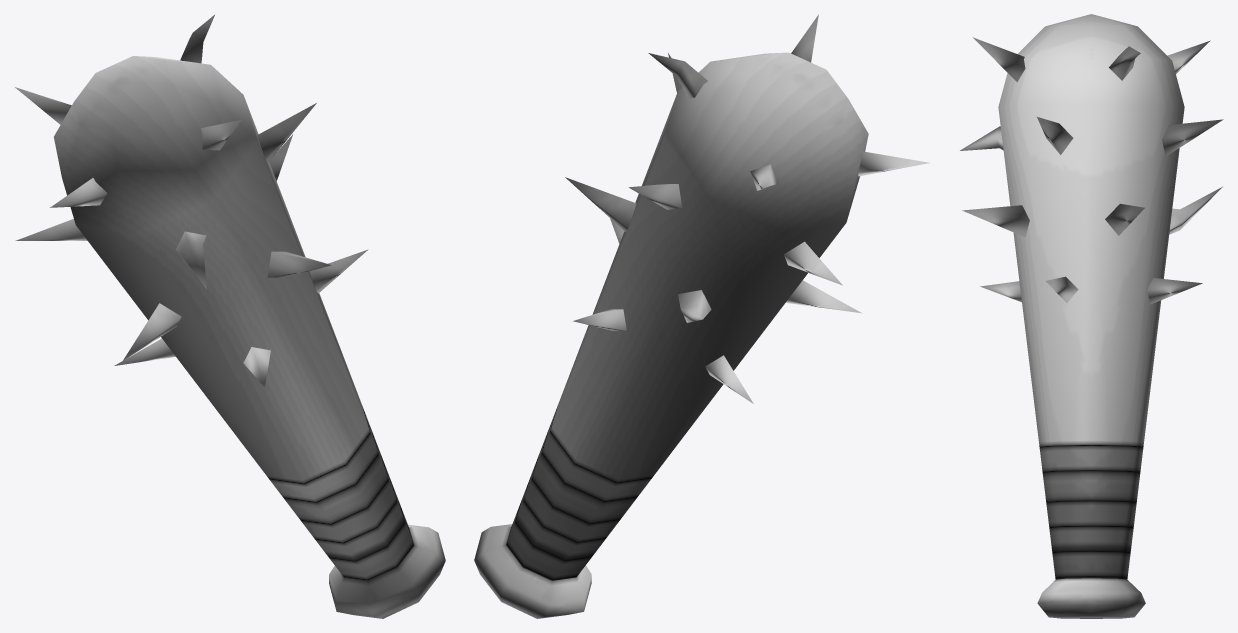
The model's file is SAVE.ICO.obj.
3 views of the same model, side by side, from view 1: azimuth 30°, elevation 25°; view 2: azimuth 150°, elevation 25°; view 3: azimuth 270°, elevation 25° (orthographic). The views are drawn at different scales.
Size of the model in its own units: 2.22 by 3.08 by 1.42.
Materials: 1 (1 with a texture image).
